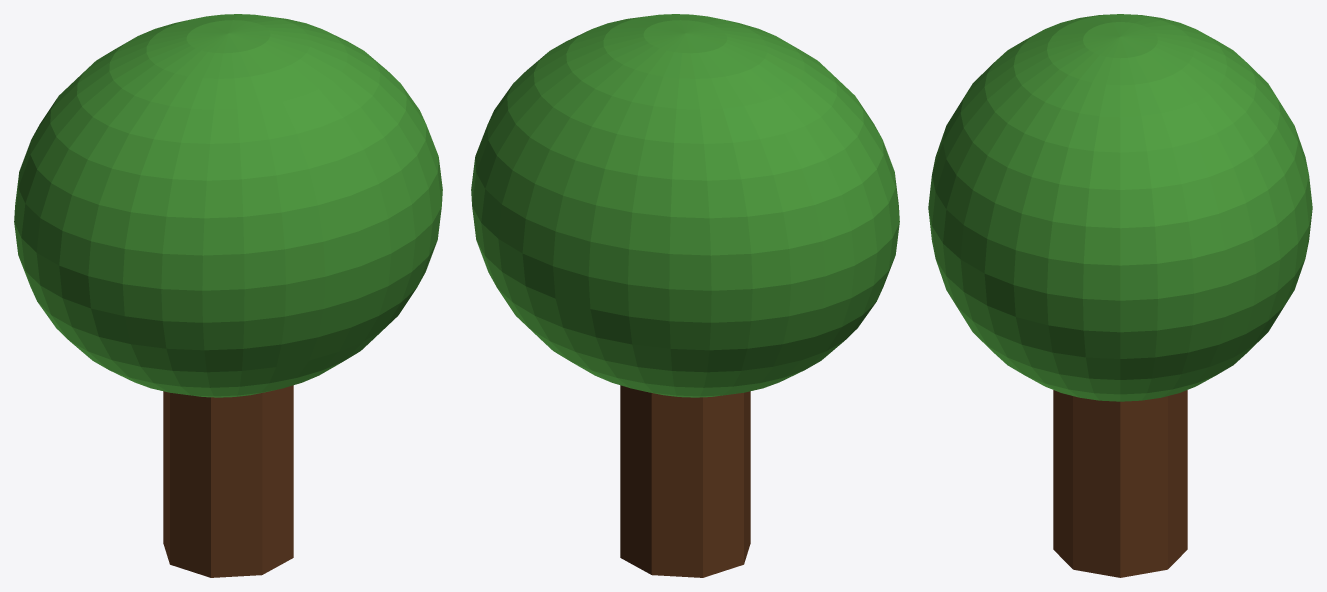
File: listovec1.glb
3 renders of one model, left to right at view 1: azimuth 30°, elevation 25°; view 2: azimuth 150°, elevation 25°; view 3: azimuth 270°, elevation 25°, orthographic.
Parts seen in each view (by area): view 1: Sphere; view 2: Sphere; view 3: Sphere.
Boxes of the visible parts, bbox=[...] form: Sphere: bbox=[14, 14, 442, 577]; Sphere: bbox=[471, 14, 899, 577]; Sphere: bbox=[928, 14, 1312, 577].
Bounding box in the file's own units: 17.75 × 22.84 × 15.52.
